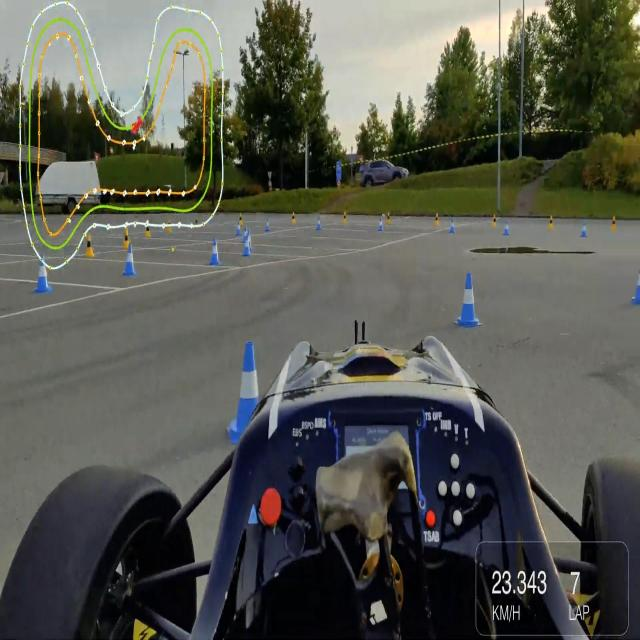blue_cone: (234, 328, 268, 445), (459, 272, 482, 335), (124, 240, 140, 276), (34, 252, 46, 298), (207, 238, 224, 270), (238, 232, 250, 255)
